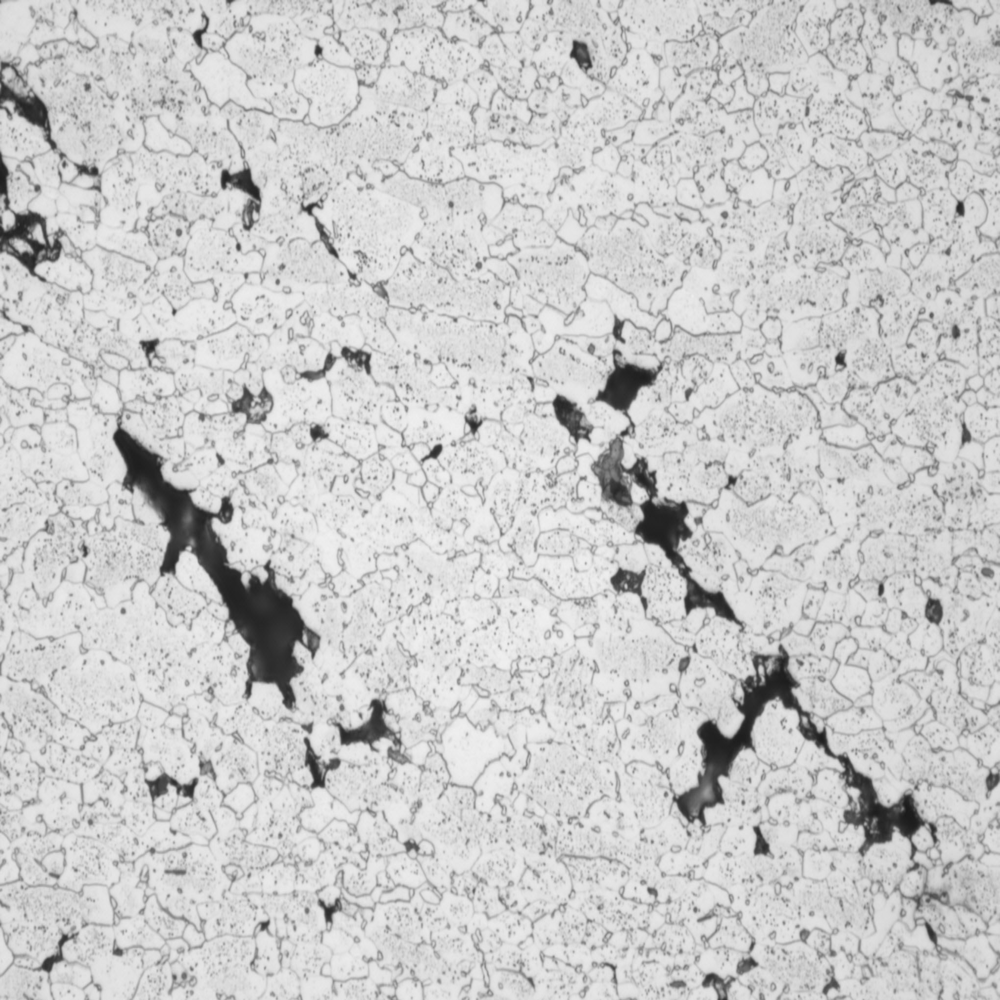crack: (511, 334, 945, 890), (68, 393, 410, 759), (199, 156, 410, 316), (1, 86, 109, 278)
